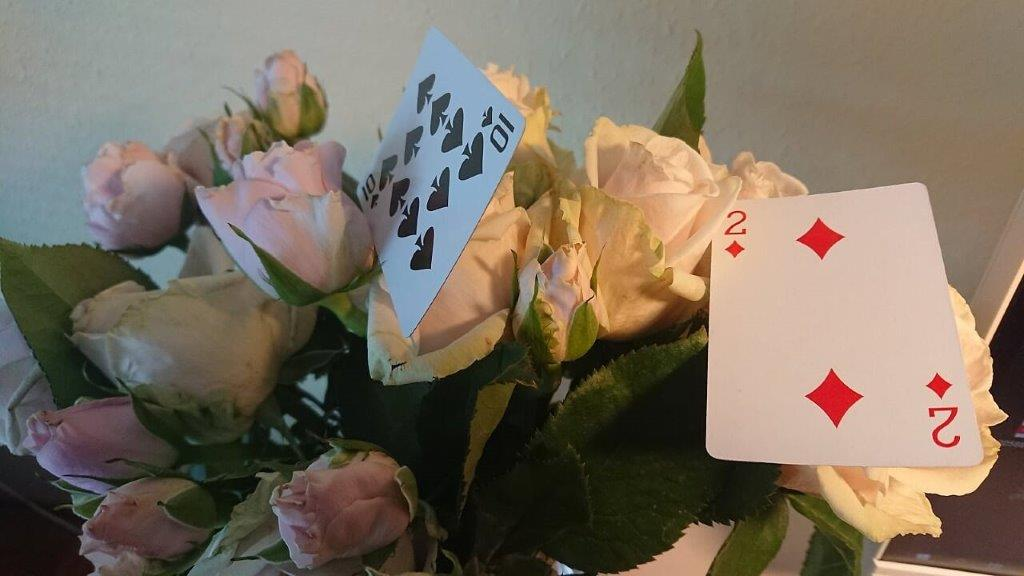10S: (359, 171, 382, 212)
2D: (718, 206, 752, 262)
